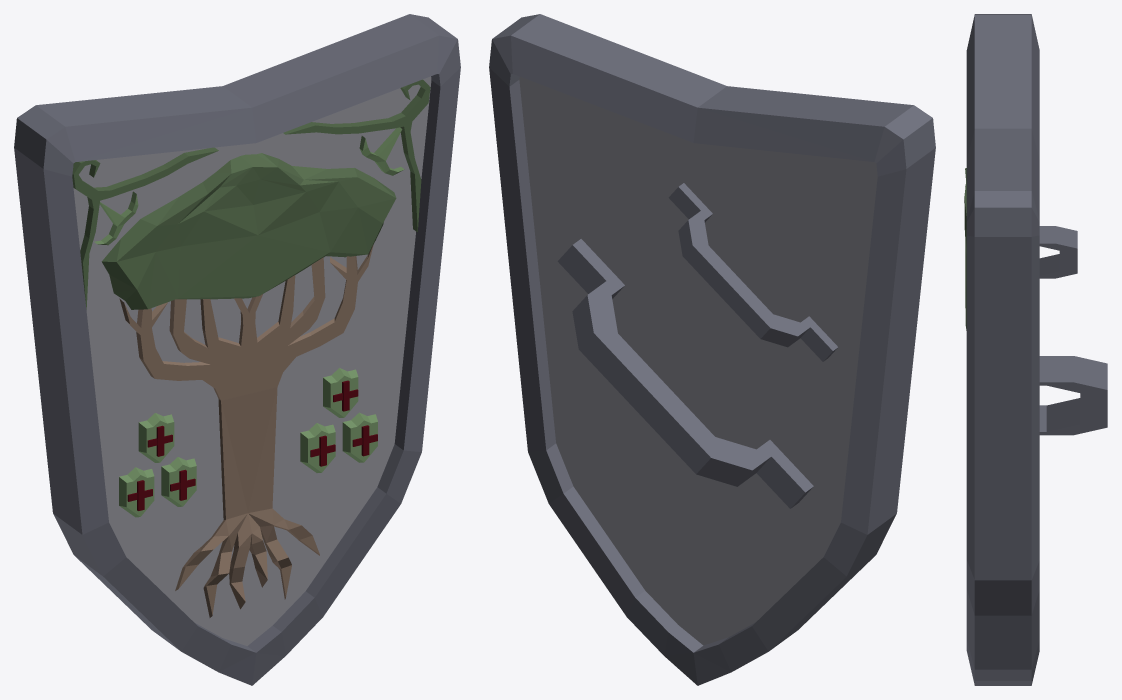
The model's file is _Shield_1.fbx.
3 renders of one model, left to right at view 1: azimuth 30°, elevation 25°; view 2: azimuth 150°, elevation 25°; view 3: azimuth 270°, elevation 25°, orthographic. The views are drawn at different scales.
Visible parts, largest first — view 1: Shield_1; view 2: Shield_1; view 3: Shield_1.
Part boxes in pixels (left/top/right/bottom): Shield_1: left=14, top=14, right=460, bottom=685; Shield_1: left=489, top=14, right=935, bottom=685; Shield_1: left=964, top=14, right=1107, bottom=685.
Bounding box in the file's own units: 68.07 × 94.25 × 20.98.
